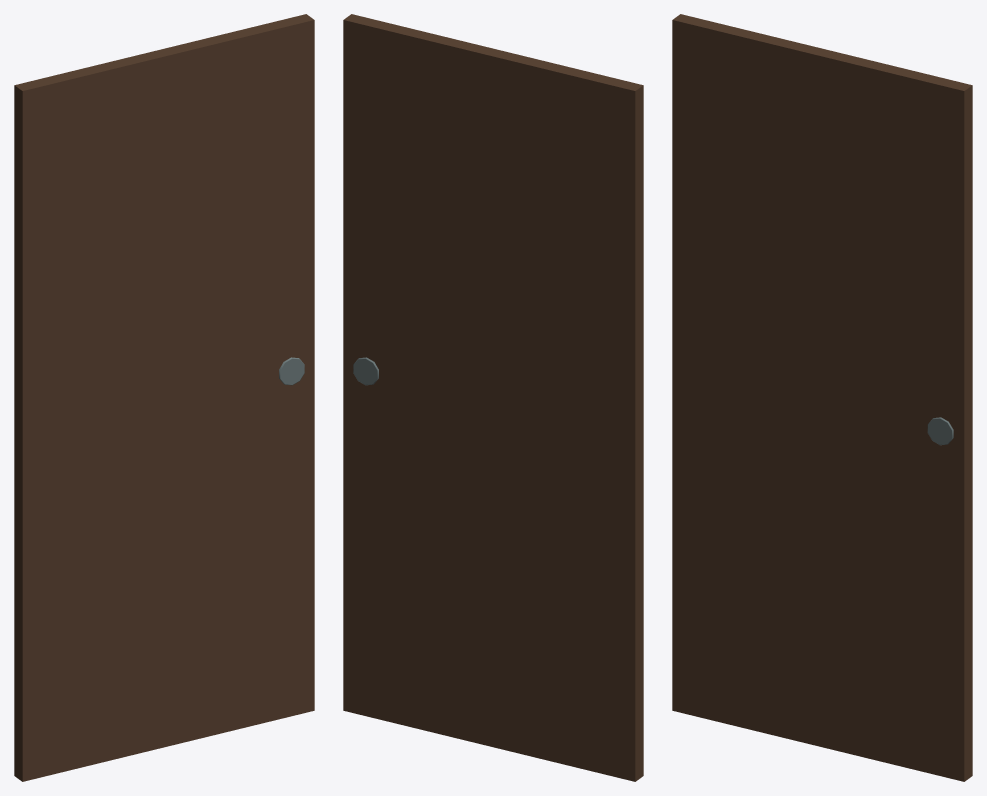
Rendered from Door_Ext_Door1.fbx.
3 views of the same model, side by side, from view 1: azimuth 30°, elevation 25°; view 2: azimuth 150°, elevation 25°; view 3: azimuth 330°, elevation 25° (orthographic).
Parts seen in each view (by area): view 1: Door (Exterior), Door Knob Base (Exterior); view 2: Door (Exterior), Door Knob Base (Exterior); view 3: Door (Exterior), Door Knob Base (Exterior).
Part boxes in pixels (bbox=[...]): Door (Exterior): bbox=[14, 14, 314, 781]; Door Knob Base (Exterior): bbox=[279, 357, 304, 385]; Door (Exterior): bbox=[343, 14, 643, 781]; Door Knob Base (Exterior): bbox=[353, 357, 378, 385]; Door (Exterior): bbox=[672, 14, 972, 781]; Door Knob Base (Exterior): bbox=[927, 417, 953, 445].
Bounding box in the file's own units: 87.67 × 198 × 5.4.
